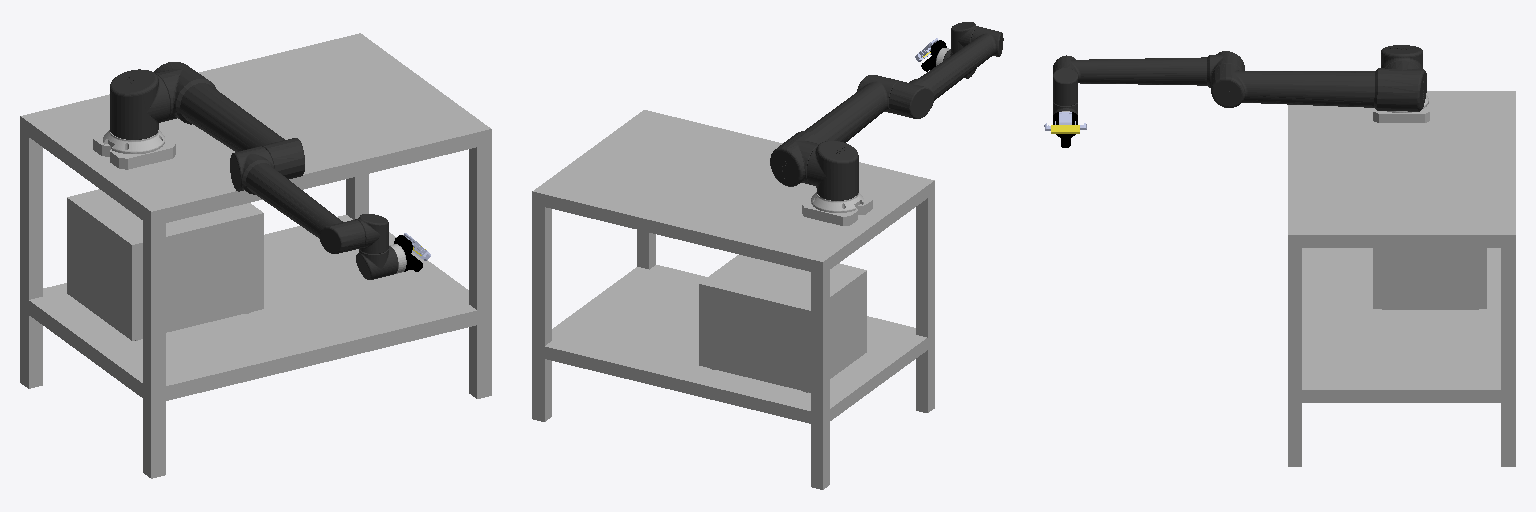
--- What the picture shows (computed from the rendered views, not written in the file) ---
3 views of the same robot in one strip: view 1: azimuth 30°, elevation 25°; view 2: azimuth 150°, elevation 25°; view 3: azimuth 270°, elevation 25° (orthographic).
Robot: ur10_description_v3 — 18 links, 17 joints (6 revolute, 11 fixed); root link table_link; default pose: all joints at 0.
Visible links, largest first — view 1: table_link, upper_arm_link, forearm_link, shoulder_link, adapter_link, wrist_2_link, wrist_1_link, base_link; view 2: table_link, upper_arm_link, forearm_link, shoulder_link, adapter_link, base_link, wrist_1_link; view 3: table_link, upper_arm_link, forearm_link, wrist_1_link, shoulder_link, adapter_link.
Link boxes in pixels (bbox=[...]): table_link: bbox=[20, 33, 491, 478]; upper_arm_link: bbox=[154, 62, 304, 179]; forearm_link: bbox=[230, 146, 365, 253]; shoulder_link: bbox=[110, 69, 169, 139]; adapter_link: bbox=[93, 132, 175, 169]; wrist_2_link: bbox=[356, 246, 397, 279]; wrist_1_link: bbox=[355, 214, 388, 253]; base_link: bbox=[103, 130, 164, 153]; table_link: bbox=[532, 110, 934, 489]; upper_arm_link: bbox=[770, 75, 898, 186]; forearm_link: bbox=[889, 27, 1003, 118]; shoulder_link: bbox=[807, 141, 858, 200]; adapter_link: bbox=[802, 194, 872, 225]; base_link: bbox=[811, 192, 863, 212]; wrist_1_link: bbox=[951, 22, 978, 53]; table_link: bbox=[1288, 91, 1515, 466]; upper_arm_link: bbox=[1211, 61, 1426, 111]; forearm_link: bbox=[1053, 51, 1244, 87]; wrist_1_link: bbox=[1053, 67, 1077, 105]; shoulder_link: bbox=[1381, 45, 1422, 68]; adapter_link: bbox=[1373, 91, 1429, 122].
Bounding box of the posed robot: 1.2 × 1.66 × 1.15 m (x, y, z).
11 mesh visuals loaded from 11 distinct referenced files (11 binary STL).

The robot description file, URDF, robot "ur10_description_v3":
<?xml version="1.0" ?>
<!-- =================================================================================== -->
<!-- |    This document was autogenerated by xacro from [local-path]/goldilocks_sensibility_ws/src/ur10_description_v3/urdf/ur10_robot.xacro | -->
<!-- |    EDITING THIS FILE BY HAND IS NOT RECOMMENDED                                 | -->
<!-- =================================================================================== -->
<!-- ur10_description_v3.urdf -->
<!-- This URDF was automatically created by SolidWorks to URDF Exporter! Originally created by Stephen Brawner ([email redacted]) 
     Commit Version: 1.6.0-4-g7f85cfe  Build Version: 1.6.7995.38578
     For more information, please see http://wiki.ros.org/sw_urdf_exporter -->
<robot name="ur10_description_v3">
    <!--https://github.com/carlosjoserg/force-torque-sensor/tree/master/model-->
    <!-- Add feedback for camera-related joints -->
    <gazebo reference="rgbd_camera_joint">
        <provideFeedback>true</provideFeedback>
        <plugin name="gazebo_ros_control" filename="libgazebo_ros_control.so">
            <robotNamespace>/</robotNamespace>
        </plugin>
    </gazebo>
    <gazebo reference="rgbd_camera_optical_joint">
        <provideFeedback>true</provideFeedback>
    </gazebo>
    <gazebo reference="rgbd_camera_depth_joint">
        <provideFeedback>true</provideFeedback>
    </gazebo>
    <gazebo reference="rgbd_camera_depth_optical_joint">
        <provideFeedback>true</provideFeedback>
    </gazebo>
    <gazebo reference="rgbd_camera_rgb_joint">
        <provideFeedback>true</provideFeedback>
    </gazebo>
    <gazebo reference="rgbd_camera_rgb_optical_joint">
        <provideFeedback>true</provideFeedback>
    </gazebo>
    <gazebo reference="rgbd_camera_link">
        <!-- Depth (IR) -->
        <sensor name="rgbd_camera_frame_sensor" type="depth">
            <always_on>true</always_on>
            <update_rate>6.0</update_rate>
            <camera>
                <horizontal_fov>1.0122909661567112</horizontal_fov>
                <image>
                    <format>R8G8B8</format>
                    <width>800</width>
                    <height>600</height>
                </image>
                <clip>
                    <near>0.05</near>
                    <far>1.5</far>
                </clip>
            </camera>
            <plugin filename="libgazebo_ros_openni_kinect.so" name="rgbd_camera_frame_controller">
                <alwaysOn>true</alwaysOn>
                <updateRate>6.0</updateRate>
                <cameraName>rgbd_camera</cameraName>
                <imageTopicName>ir/image_raw</imageTopicName>
                <cameraInfoTopicName>ir/camera_info</cameraInfoTopicName>
                <depthImageTopicName>depth/image_raw</depthImageTopicName>
                <depthImageCameraInfoTopicName>depth/camera_info</depthImageCameraInfoTopicName>
                <pointCloudTopicName>depth/points</pointCloudTopicName>
                <frameName>rgbd_camera_optical_frame</frameName>
                <pointCloudCutoff>0.05</pointCloudCutoff>
                <pointCloudCutoffMax>5</pointCloudCutoffMax>
                <rangeMax>1.5</rangeMax>
            </plugin>
        </sensor>
        <!-- RGB -->
        <sensor name="rgbd_camera_frame_sensor" type="depth">
            <always_on>true</always_on>
            <update_rate>6.0</update_rate>
            <camera>
                <horizontal_fov>1.0122909661567112</horizontal_fov>
                <image>
                    <format>R8G8B8</format>
                    <width>800</width>
                    <height>600</height>
                </image>
                <clip>
                    <near>0.05</near>
                    <far>1.5</far>
                </clip>
            </camera>
            <plugin filename="libgazebo_ros_openni_kinect.so" name="rgbd_camera_frame_controller">
                <alwaysOn>true</alwaysOn>
                <updateRate>6.0</updateRate>
                <cameraName>rgbd_camera</cameraName>
                <imageTopicName>rgb/image_raw</imageTopicName>
                <cameraInfoTopicName>rgb/camera_info</cameraInfoTopicName>
                <pointCloudTopicName>rgb/points</pointCloudTopicName>
                <depthImageTopicName>depth/image_raw</depthImageTopicName>
                <depthImageCameraInfoTopicName>depth/camera_info</depthImageCameraInfoTopicName>
                <frameName>rgbd_camera_optical_frame</frameName>
                <pointCloudCutoff>0.05</pointCloudCutoff>
                <pointCloudCutoffMax>5</pointCloudCutoffMax>
                <rangeMax>1.5</rangeMax>
            </plugin>
        </sensor>
        <!-- Add feedback for camera link -->
        <provideFeedback>true</provideFeedback>
    </gazebo>
    <link name="table_link">
        <inertial>
            <origin rpy="0 0 0" xyz="0.503679778923471 0.436750246454337 0.533162239913515" />
            <mass value="164.427518164029" />
            <inertia ixx="17.5438109681455" ixy="1.00173029919582" ixz="-0.84554880731535" iyy="27.9962527469498" iyz="0.32261270489944" izz="25.3196927520228" />
        </inertial>
        <visual>
            <origin rpy="0 0 0" xyz="0 0 0" />
            <geometry>
                <mesh filename="package://ur10_description_v3/meshes/table_link.STL" />
            </geometry>
            <material name="">
                <color rgba="0.752941176470588 0.752941176470588 0.752941176470588 1" />
            </material>
        </visual>
        <collision>
            <origin rpy="0 0 0" xyz="0 0 0" />
            <geometry>
                <mesh filename="package://ur10_description_v3/meshes/table_link.STL" />
            </geometry>
        </collision>
    </link>
    <link name="adapter_link">
        <inertial>
            <origin rpy="0 0 0" xyz="0.00148762870939384 -5.55111512312578E-17 0.0184969952138566" />
            <mass value="1.3940393775037" />
            <inertia ixx="0.00480218257555222" ixy="-3.32761202584861E-19" ixz="-6.23136456619299E-09" iyy="0.00460995913579551" iyz="-9.9318015210222E-20" izz="0.00909416459764461" />
        </inertial>
        <visual>
            <origin rpy="0 0 0" xyz="0 0 0" />
            <geometry>
                <mesh filename="package://ur10_description_v3/meshes/adapter_link.STL" />
            </geometry>
            <material name="">
                <color rgba="0.752941176470588 0.752941176470588 0.752941176470588 1" />
            </material>
        </visual>
        <collision>
            <origin rpy="0 0 0" xyz="0 0 0" />
            <geometry>
                <mesh filename="package://ur10_description_v3/meshes/adapter_link.STL" />
            </geometry>
        </collision>
    </link>
    <joint name="adapter_joint" type="fixed">
        <origin rpy="0 0 0" xyz="0.17 0.4 0.9" />
        <parent link="table_link" />
        <child link="adapter_link" />
        <axis xyz="0 0 0" />
    </joint>
    <link name="base_link">
        <inertial>
            <origin rpy="0 0 0" xyz="0.0011845 -2.7253E-08 0.017325" />
            <mass value="0.86268" />
            <inertia ixx="0.0017501" ixy="8.3495E-09" ixz="9.0593E-06" iyy="0.0016637" iyz="-4.5806E-10" izz="0.0032119" />
        </inertial>
        <visual>
            <origin rpy="0 0 0" xyz="0 0 0" />
            <geometry>
                <mesh filename="package://ur10_description_v3/meshes/base_link.STL" />
            </geometry>
            <material name="">
                <color rgba="0.75294 0.75294 0.75294 1" />
            </material>
        </visual>
        <collision>
            <origin rpy="0 0 0" xyz="0 0 0" />
            <geometry>
                <mesh filename="package://ur10_description_v3/meshes/base_link.STL" />
            </geometry>
        </collision>
    </link>
    <joint name="base_joint" type="fixed">
        <origin rpy="0 0 0" xyz="0 0 0.037" />
        <parent link="adapter_link" />
        <child link="base_link" />
        <axis xyz="0 0 0" />
    </joint>
    <link name="shoulder_link">
        <inertial>
            <origin rpy="0 0 0" xyz="2.679E-07 0.010024 0.0831" />
            <mass value="7.778" />
            <inertia ixx="0.012906" ixy="1.6076E-08" ixz="-3.7079E-08" iyy="0.012039" iyz="-0.00053627" izz="0.010755" />
        </inertial>
        <visual>
            <origin rpy="0 0 0" xyz="0 0 0" />
            <geometry>
                <mesh filename="package://ur10_description_v3/meshes/shoulder_link.STL" />
            </geometry>
            <material name="">
                <color rgba="0.25098 0.25098 0.25098 1" />
            </material>
        </visual>
        <collision>
            <origin rpy="0 0 0" xyz="0 0 0" />
            <geometry>
                <mesh filename="package://ur10_description_v3/meshes/shoulder_link.STL" />
            </geometry>
        </collision>
    </link>
    <joint name="shoulder_pan_joint" type="revolute">
        <origin rpy="0 0 -1.57" xyz="0 0 0.038" />
        <parent link="base_link" />
        <child link="shoulder_link" />
        <axis xyz="0 0 1" />
        <limit effort="330" lower="-6.28" upper="6.28" velocity="120" />
    </joint>
    <link name="upper_arm_link">
        <inertial>
            <origin rpy="0 0 0" xyz="-0.25443 -2.027E-07 0.082537" />
            <mass value="12.93" />
            <inertia ixx="0.024456" ixy="3.1971E-08" ixz="0.0078193" iyy="0.52575" iyz="8.3512E-08" izz="0.52417" />
        </inertial>
        <visual>
            <origin rpy="0 0 0" xyz="0 0 0" />
            <geometry>
                <mesh filename="package://ur10_description_v3/meshes/upper_arm_link.STL" />
            </geometry>
            <material name="">
                <color rgba="0.25098 0.25098 0.25098 1" />
            </material>
        </visual>
        <collision>
            <origin rpy="0 0 0" xyz="0 0 0" />
            <geometry>
                <mesh filename="package://ur10_description_v3/meshes/upper_arm_link.STL" />
            </geometry>
        </collision>
    </link>
    <joint name="shoulder_lift_joint" type="revolute">
        <origin rpy="1.5707963267949 0.0240929901040578 3.14159265358979" xyz="0 0.0859989999999999 0.0882571802206784" />
        <parent link="shoulder_link" />
        <child link="upper_arm_link" />
        <axis xyz="0 0 1" />
        <limit effort="330" lower="-6.28" upper="6.28" velocity="120" />
    </joint>
    <link name="forearm_link">
        <inertial>
            <origin rpy="0 0 0" xyz="-0.24807 1.9251E-09 -0.034936" />
            <mass value="3.87" />
            <inertia ixx="0.0067905" ixy="5.4328E-08" ixz="-0.00025402" iyy="0.20899" iyz="7.4389E-09" izz="0.20875" />
        </inertial>
        <visual>
            <origin rpy="0 0 0" xyz="0 0 0" />
            <geometry>
                <mesh filename="package://ur10_description_v3/meshes/forearm_link.STL" />
            </geometry>
            <material name="">
                <color rgba="0.25098 0.25098 0.25098 1" />
            </material>
        </visual>
        <collision>
            <origin rpy="0 0 0" xyz="0 0 0" />
            <geometry>
                <mesh filename="package://ur10_description_v3/meshes/forearm_link.STL" />
            </geometry>
        </collision>
    </link>
    <joint name="elbow_joint" type="revolute">
        <origin rpy="0 0 0.0242666741712824" xyz="-0.612 0 0" />
        <parent link="upper_arm_link" />
        <child link="forearm_link" />
        <axis xyz="0 0 1" />
        <limit effort="150" lower="-3.14" upper="3.14" velocity="180" />
    </joint>
    <link name="wrist_1_link">
        <inertial>
            <origin rpy="0 0 0" xyz="8.3814E-09 -0.010045 0.046994" />
            <mass value="1.96" />
            <inertia ixx="0.0010747" ixy="-1.3405E-12" ixz="4.6386E-10" iyy="0.00088168" iyz="7.862E-05" izz="0.00098347" />
        </inertial>
        <visual>
            <origin rpy="0 0 0" xyz="0 0 0" />
            <geometry>
                <mesh filename="package://ur10_description_v3/meshes/wrist_1_link.STL" />
            </geometry>
            <material name="">
                <color rgba="0.25098 0.25098 0.25098 1" />
            </material>
        </visual>
        <collision>
            <origin rpy="0 0 0" xyz="0 0 0" />
            <geometry>
                <mesh filename="package://ur10_description_v3/meshes/wrist_1_link.STL" />
            </geometry>
        </collision>
    </link>
    <joint name="wrist_1_joint" type="revolute">
        <origin rpy="0 0 -0.000173684067224549" xyz="-0.5716 0 0.0220010000000001" />
        <parent link="forearm_link" />
        <child link="wrist_1_link" />
        <axis xyz="0 0 1" />
        <limit effort="56" lower="-6.28" upper="6.28" velocity="180" />
    </joint>
    <link name="wrist_2_link">
        <inertial>
            <origin rpy="0 0 0" xyz="-8.3814E-09 0.010045 0.046994" />
            <mass value="1.96" />
            <inertia ixx="0.0010747" ixy="-1.3405E-12" ixz="-4.6386E-10" iyy="0.00088168" iyz="-7.862E-05" izz="0.00098347" />
        </inertial>
        <visual>
            <origin rpy="0 0 0" xyz="0 0 0" />
            <geometry>
                <mesh filename="package://ur10_description_v3/meshes/wrist_2_link.STL" />
            </geometry>
            <material name="">
                <color rgba="0.25098 0.25098 0.25098 1" />
            </material>
        </visual>
        <collision>
            <origin rpy="0 0 0" xyz="0 0 0" />
            <geometry>
                <mesh filename="package://ur10_description_v3/meshes/wrist_2_link.STL" />
            </geometry>
        </collision>
    </link>
    <joint name="wrist_2_joint" type="revolute">
        <origin rpy="1.5707963267949 0 0" xyz="0 -0.0617000000000001 0.054" />
        <parent link="wrist_1_link" />
        <child link="wrist_2_link" />
        <axis xyz="0 0 1" />
        <limit effort="56" lower="-6.28" upper="6.28" velocity="180" />
    </joint>
    <link name="wrist_3_link">
        <inertial>
            <origin rpy="0 0 0" xyz="2.2204E-16 -1.1102E-16 0.015005" />
            <mass value="0.202" />
            <inertia ixx="0.00010845" ixy="-6.3527E-22" ixz="8.5217E-21" iyy="0.00010845" iyz="2.1272E-20" izz="0.0001885" />
        </inertial>
        <visual>
            <origin rpy="0 0 0" xyz="0 0 0" />
            <geometry>
                <mesh filename="package://ur10_description_v3/meshes/wrist_3_link.STL" />
            </geometry>
            <material name="">
                <color rgba="0.75294 0.75294 0.75294 1" />
            </material>
        </visual>
        <collision>
            <origin rpy="0 0 0" xyz="0 0 0" />
            <geometry>
                <mesh filename="package://ur10_description_v3/meshes/wrist_3_link.STL" />
            </geometry>
        </collision>
    </link>
    <joint name="wrist_3_joint" type="revolute">
        <origin rpy="-1.5707963267949 0.0141025375343068 0" xyz="0 0.0617 0.054" />
        <parent link="wrist_2_link" />
        <child link="wrist_3_link" />
        <axis xyz="0 0 1" />
        <limit effort="56" lower="-6.28" upper="6.28" velocity="180" />
    </joint>
    <link name="tool0_link">
        <inertial>
            <origin rpy="0 0 0" xyz="-9.51811385263568E-09 -0.00040829549117638 -0.063076624107084" />
            <mass value="0.159494248297753" />
            <inertia ixx="0.000196142213229152" ixy="-3.17147593634008E-12" ixz="-8.16590451397829E-11" iyy="0.000202558472496363" iyz="3.31143649078889E-05" izz="0.000103928487892553" />
        </inertial>
        <visual>
            <origin rpy="0 0 0" xyz="0 0 0" />
            <geometry>
                <mesh filename="package://ur10_description_v3/meshes/test_finger_link.STL" />
            </geometry>
            <material name="">
                <color rgba="0 0 0 1" />
            </material>
        </visual>
        <collision>
            <origin rpy="0 0 0" xyz="0 0 0" />
            <geometry>
                <mesh filename="package://ur10_description_v3/meshes/test_finger_link.STL" />
            </geometry>
        </collision>
    </link>
    <joint name="tool0" type="fixed">
        <origin rpy="0.785398163397435 0 0" xyz="0 -0.0486072989450782 0.0984743807368732" />
        <parent link="wrist_3_link" />
        <child link="tool0_link" />
        <axis xyz="0 0 0" />
    </joint>
    <link name="camera_link">
        <inertial>
            <origin rpy="0 0 0" xyz="-1.61524861117535E-05 -0.00212700504491092 -0.0193765848255853" />
            <mass value="0.0840231018507497" />
            <inertia ixx="8.83086020963579E-06" ixy="4.69402693871799E-10" ixz="-1.85931238714756E-08" iyy="0.00010709697994186" iyz="1.0714392504519E-06" izz="0.000107821135197006" />
        </inertial>
        <visual>
            <origin rpy="0 0 0" xyz="0 0 0" />
            <geometry>
                <mesh filename="package://ur10_description_v3/meshes/camera_link.STL" />
            </geometry>
            <material name="">
                <color rgba="0.792156862745098 0.819607843137255 0.933333333333333 1" />
            </material>
        </visual>
        <collision>
            <origin rpy="0 0 0" xyz="0 0 0" />
            <geometry>
                <mesh filename="package://ur10_description_v3/meshes/camera_link.STL" />
            </geometry>
        </collision>
    </link>
    <joint name="tool_camera" type="fixed">
        <origin rpy="0.856180071631976 0 0" xyz="0 0.0158483827537649 0.0919267022436815" />
        <parent link="wrist_3_link" />
        <child link="camera_link" />
        <axis xyz="0 0 0" />
    </joint>
    <transmission name="trans_shoulder_pan_joint">
        <type>transmission_interface/SimpleTransmission</type>
        <joint name="shoulder_pan_joint">
            <hardwareInterface>hardware_interface/EffortJointInterface</hardwareInterface>
        </joint>
        <actuator name="shoulder_pan_joint_motor">
            <hardwareInterface>hardware_interface/EffortJointInterface</hardwareInterface>
            <mechanicalReduction>1</mechanicalReduction>
        </actuator>
    </transmission>
    <transmission name="trans_shoulder_lift_joint">
        <type>transmission_interface/SimpleTransmission</type>
        <joint name="shoulder_lift_joint">
            <hardwareInterface>hardware_interface/EffortJointInterface</hardwareInterface>
        </joint>
        <actuator name="shoulder_lift_joint_motor">
            <hardwareInterface>hardware_interface/EffortJointInterface</hardwareInterface>
            <mechanicalReduction>1</mechanicalReduction>
        </actuator>
    </transmission>
    <transmission name="trans_elbow_joint">
        <type>transmission_interface/SimpleTransmission</type>
        <joint name="elbow_joint">
            <hardwareInterface>hardware_interface/EffortJointInterface</hardwareInterface>
        </joint>
        <actuator name="elbow_joint_motor">
            <hardwareInterface>hardware_interface/EffortJointInterface</hardwareInterface>
            <mechanicalReduction>1</mechanicalReduction>
        </actuator>
    </transmission>
    <transmission name="trans_wrist_1_joint">
        <type>transmission_interface/SimpleTransmission</type>
        <joint name="wrist_1_joint">
            <hardwareInterface>hardware_interface/EffortJointInterface</hardwareInterface>
        </joint>
        <actuator name="wrist_1_joint_motor">
            <hardwareInterface>hardware_interface/EffortJointInterface</hardwareInterface>
            <mechanicalReduction>1</mechanicalReduction>
        </actuator>
    </transmission>
    <transmission name="trans_wrist_2_joint">
        <type>transmission_interface/SimpleTransmission</type>
        <joint name="wrist_2_joint">
            <hardwareInterface>hardware_interface/EffortJointInterface</hardwareInterface>
        </joint>
        <actuator name="wrist_2_joint_motor">
            <hardwareInterface>hardware_interface/EffortJointInterface</hardwareInterface>
            <mechanicalReduction>1</mechanicalReduction>
        </actuator>
    </transmission>
    <transmission name="trans_wrist_3_joint">
        <type>transmission_interface/SimpleTransmission</type>
        <joint name="wrist_3_joint">
            <hardwareInterface>hardware_interface/EffortJointInterface</hardwareInterface>
        </joint>
        <actuator name="wrist_3_joint_motor">
            <hardwareInterface>hardware_interface/EffortJointInterface</hardwareInterface>
            <mechanicalReduction>1</mechanicalReduction>
        </actuator>
    </transmission>
    <!-- Forces the joint to send feedback  -->
    <gazebo reference="wrist_3_joint">
        <provideFeedback>true</provideFeedback>
    </gazebo>
    <!-- The ft_sensor plugin  -->
    <gazebo>
        <plugin filename="libgazebo_ros_ft_sensor.so" name="wrist_3_joint_ft_sensor">
            <updateRate>1000.0</updateRate>
            <topicName>/wrench</topicName>
            <jointName>measurement</jointName>
            <noise>
                <type>gaussian</type>
                <mean>0.0</mean>
                <stddev>0.003</stddev>
                <!-- change this to simulate noise -->
            </noise>
        </plugin>
    </gazebo>
    <!-- frames in the center of the camera -->
    <joint name="rgbd_camera_joint" type="fixed">
        <origin rpy="0 0 -1.57" xyz="0 0 0" />
        <parent link="camera_link" />
        <child link="rgbd_camera_link" />
    </joint>
    <link name="rgbd_camera_link">
        <inertial>
            <origin rpy="0 0 0" xyz="-0.00936000000 -0.00003000000 -0.00273000000" />
            <mass value="0.21970000000" />
            <inertia ixx="0.00000429247" ixy="0.00000000000" ixz="0.00000002565" iyy="0.00000008027" iyz="0.00000000000" izz="0.00000427339" />
        </inertial>
        <visual>
            <geometry>
                <box size="0.025 0.1 0.025" />
                <!-- <mesh filename="package://"/> -->
            </geometry>
            <material name="DarkGrey" />
        </visual>
        <!-- <collision>
                <geometry>
                    <box size="0.025 0.1 0.025" />
                    <mesh filename="package://"/>
                </geometry>
            </collision> -->
    </link>
    <joint name="rgbd_camera_optical_joint" type="fixed">
        <origin rpy="0 0 -1.57" xyz="0 0 0" />
        <parent link="rgbd_camera_link" />
        <child link="rgbd_camera_optical_frame" />
    </joint>
    <link name="rgbd_camera_optical_frame">
        <inertial>
            <origin rpy="0 0 0" xyz="0 0 0" />
            <mass value="0.001" />
            <inertia ixx="0.00001" ixy="0" ixz="0" iyy="0.00001" iyz="0" izz="0.00001" />
        </inertial>
    </link>
    <!-- Depth sensor frames -->
    <joint name="rgbd_camera_depth_joint" type="fixed">
        <origin rpy="0 0 0" xyz="0.0 0.049 0.0" />
        <parent link="rgbd_camera_link" />
        <child link="rgbd_camera_depth_frame" />
    </joint>
    <link name="rgbd_camera_depth_frame">
        <inertial>
            <origin rpy="0 0 0" xyz="0 0 0" />
            <mass value="0.001" />
            <inertia ixx="0.00001" ixy="0" ixz="0" iyy="0.00001" iyz="0" izz="0.00001" />
        </inertial>
    </link>
    <joint name="rgbd_camera_depth_optical_joint" type="fixed">
        <origin rpy="-1.5707963267948966 0.0 -1.5707963267948966" xyz="0 0 0" />
        <parent link="rgbd_camera_depth_frame" />
        <child link="rgbd_camera_depth_optical_frame" />
    </joint>
    <link name="rgbd_camera_depth_optical_frame">
        <inertial>
            <origin rpy="0 0 0" xyz="0 0 0" />
            <mass value="0.001" />
            <inertia ixx="0.00001" ixy="0" ixz="0" iyy="0.00001" iyz="0" izz="0.00001" />
        </inertial>
    </link>
    <!-- RGB sensor frames -->
    <joint name="rgbd_camera_rgb_joint" type="fixed">
        <origin rpy="0 0 0" xyz="0.0 0.022 0.0" />
        <parent link="rgbd_camera_link" />
        <child link="rgbd_camera_rgb_frame" />
    </joint>
    <link name="rgbd_camera_rgb_frame">
        <inertial>
            <origin rpy="0 0 0" xyz="0 0 0" />
            <mass value="0.001" />
            <inertia ixx="0.00001" ixy="0" ixz="0" iyy="0.00001" iyz="0" izz="0.00001" />
        </inertial>
    </link>
    <joint name="rgbd_camera_rgb_optical_joint" type="fixed">
        <origin rpy="-1.5707963267948966 0.0 -1.5707963267948966" xyz="0 0 0" />
        <parent link="rgbd_camera_rgb_frame" />
        <child link="rgbd_camera_rgb_optical_frame" />
    </joint>
    <link name="rgbd_camera_rgb_optical_frame">
        <inertial>
            <origin rpy="0 0 0" xyz="0 0 0" />
            <mass value="0.001" />
            <inertia ixx="0.00001" ixy="0" ixz="0" iyy="0.00001" iyz="0" izz="0.00001" />
        </inertial>
    </link>
    <gazebo>
        <plugin filename="libgazebo_ros_control.so" name="gazebo_ros_control">
            <!-- <robotNamespace></robotNamespace> -->
        </plugin>
    </gazebo>
    <!-- ROS-Industrial 'base' frame: base_link to UR 'Base' Coordinates transform -->
    <link name="base" />
    <joint name="base_link-base_fixed_joint" type="fixed">
        <!-- Note the rotation over Z of pi radians: as base_link is REP-103
            aligned (ie: has X+ forward, Y+ left and Z+ up), this is needed
            to correctly align 'base' with the 'Base' coordinate system of
            the UR controller.
        -->
        <origin rpy="0 0 3.14" xyz="0 0 0" />
        <parent link="base_link" />
        <child link="base" />
    </joint>
</robot>
